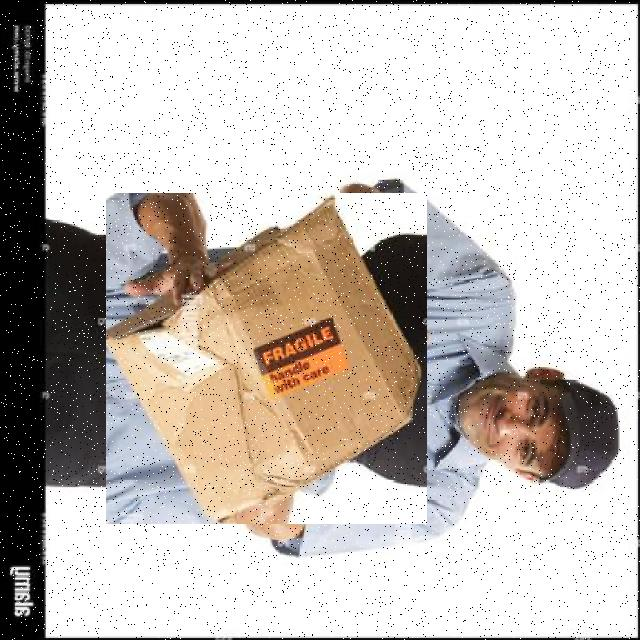defect: (105, 192, 426, 523)
